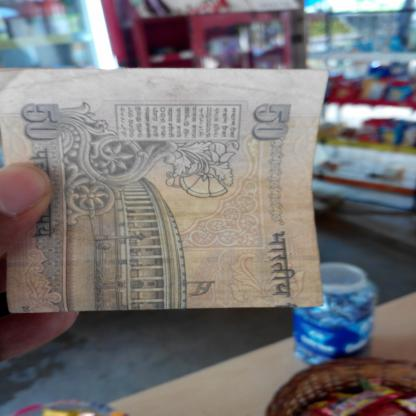Old50Back: (0, 65, 332, 316)
